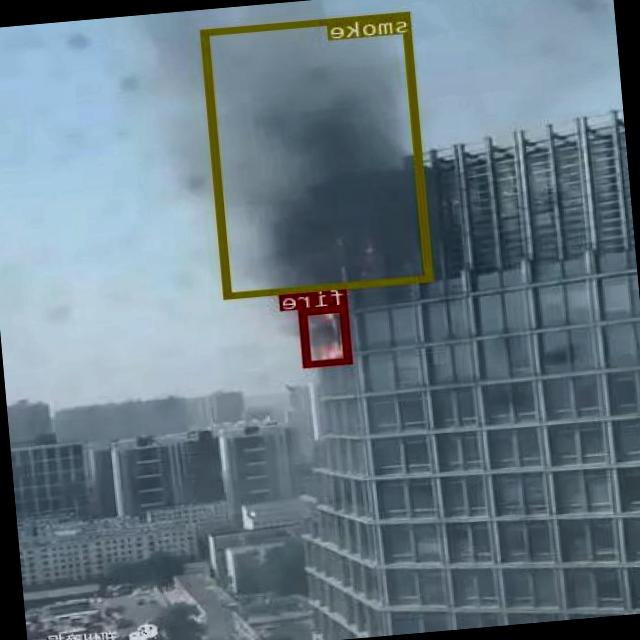fire: (301, 304, 354, 365)
smoke: (202, 11, 434, 298)
